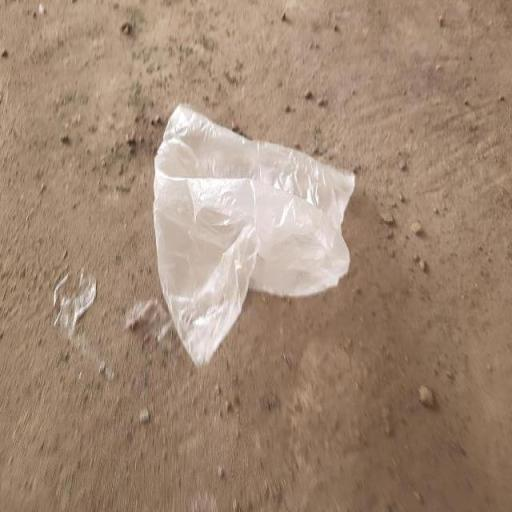plastic-bag: (152, 100, 359, 364)
